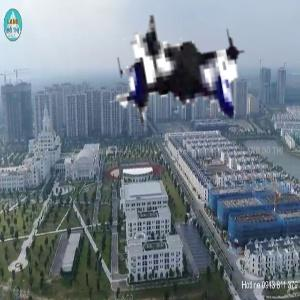drone: (89, 5, 298, 214)
